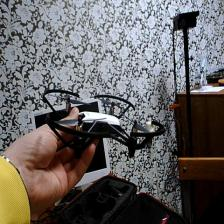drone: (40, 81, 167, 165)
